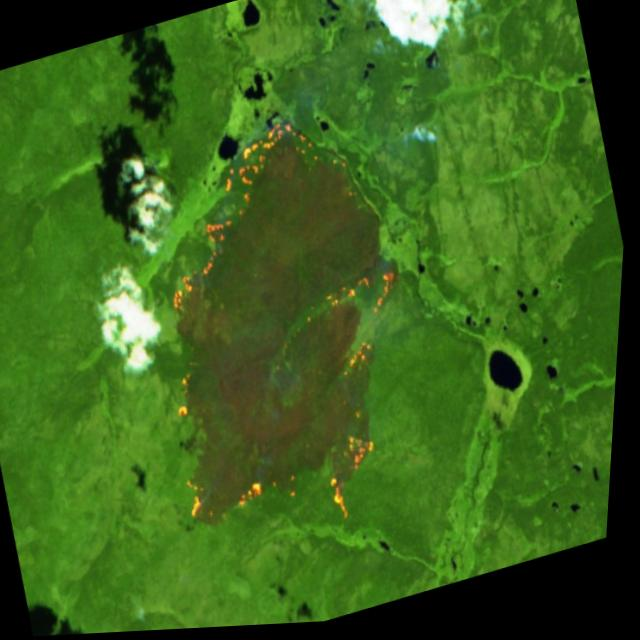fire: (135, 262, 466, 592), (127, 96, 355, 321)
